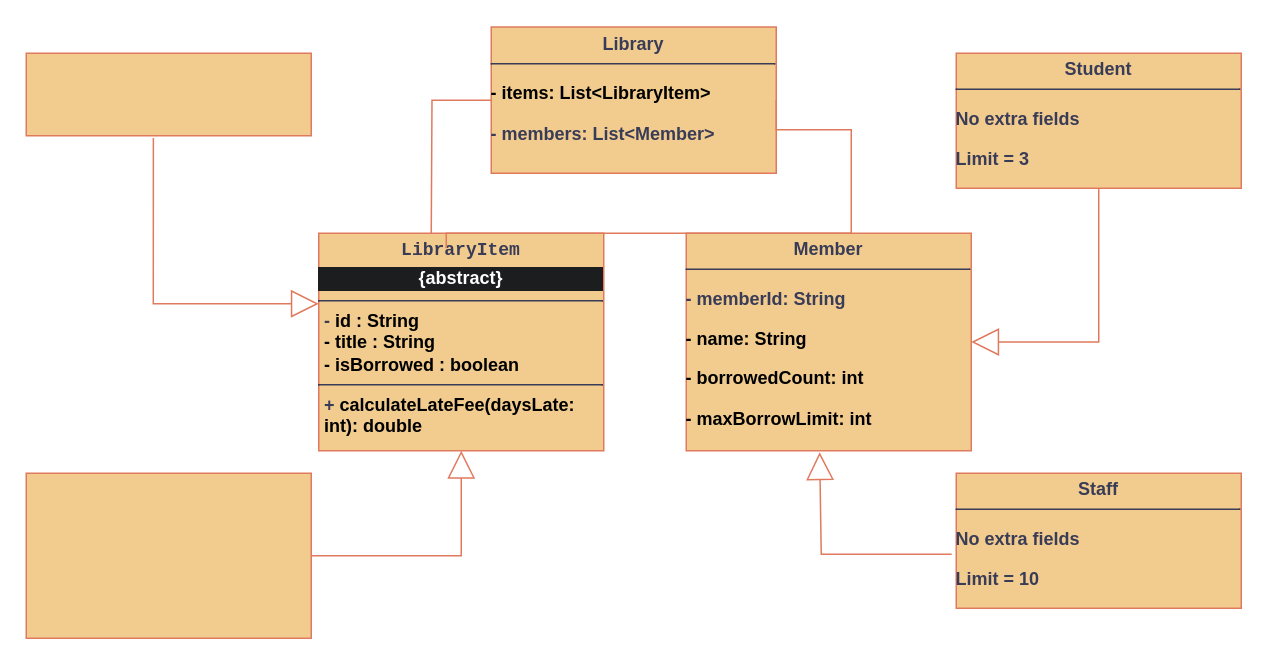
Image size: 1268x665. Some labels were removed from this diagram. The shapes that lost their labels are listed below. From the top down, each one's centre as x and y in pixels, then its label:
the point at 168,94: Book - author: String
the point at 168,555: DVD - durationMinutes: int + calculateLateFee(daysLate: int): double
